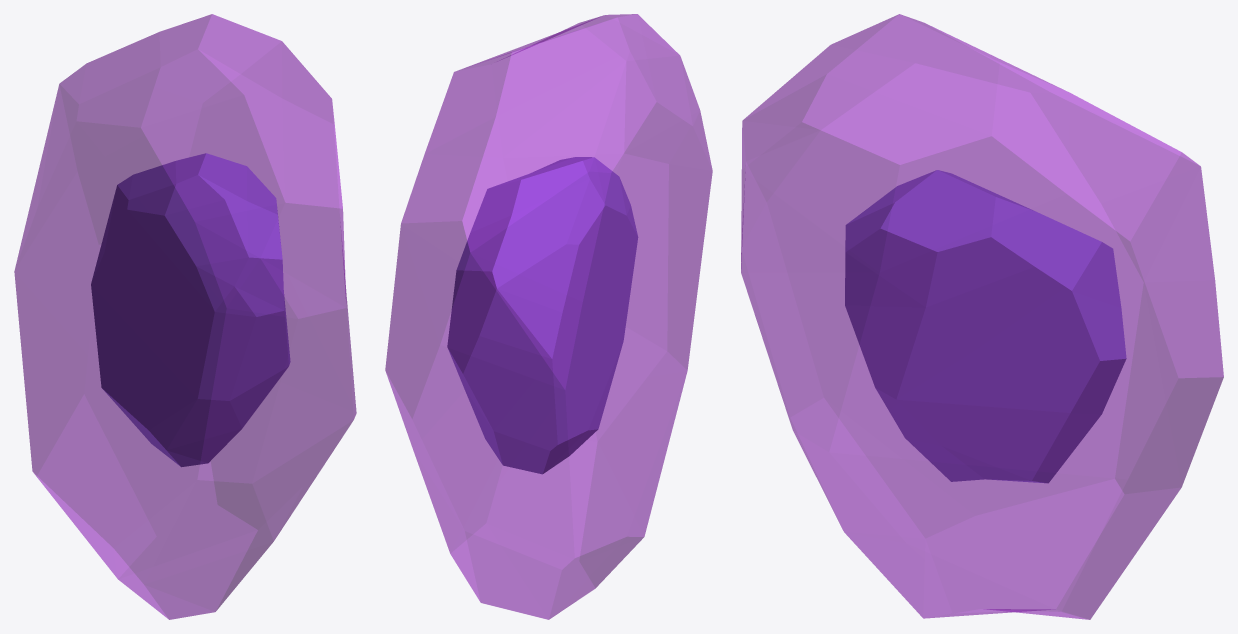
Rendered from stone-main.fbx.
The picture shows the model from 3 angles, left to right: view 1: azimuth 30°, elevation 25°; view 2: azimuth 150°, elevation 25°; view 3: azimuth 270°, elevation 25°; orthographic projection. The views are drawn at different scales.
Visible parts, largest first — view 1: Cube.024; view 2: Cube.024; view 3: Cube.024.
Part boxes in pixels (x1,y1,x2,y2): Cube.024: (14,14,356,619); Cube.024: (385,14,712,619); Cube.024: (741,14,1223,619).
Bounding box in the file's own units: 196 × 556 × 405.
